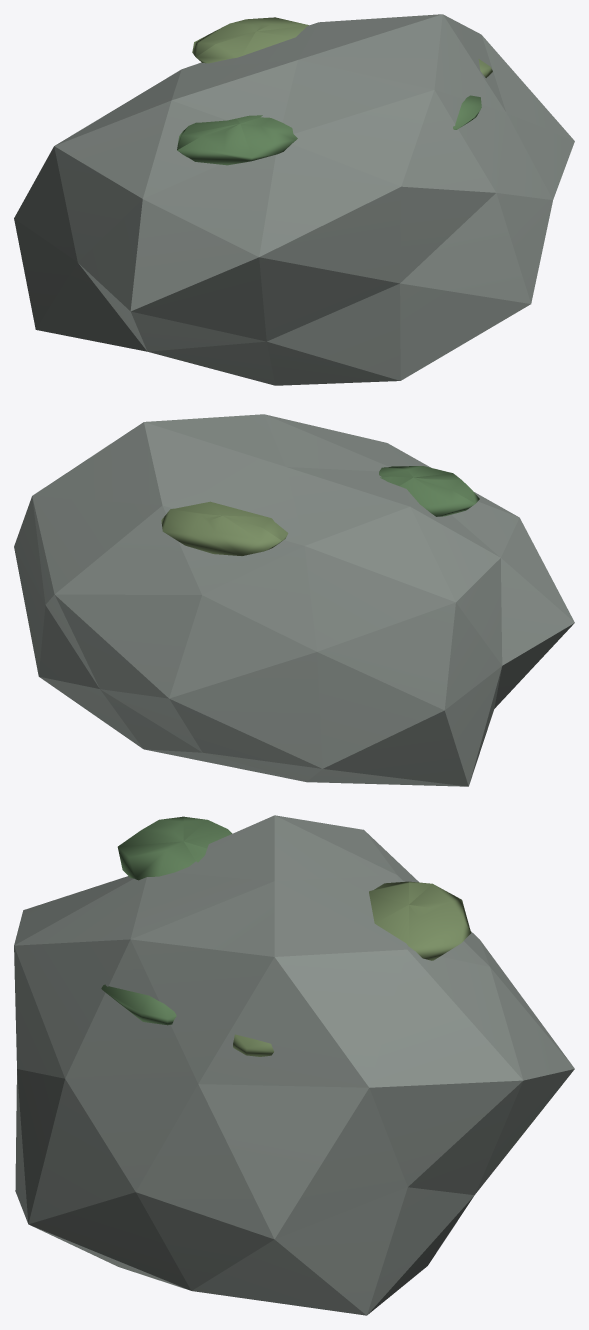
The model's file is roca_lod.glb.
3 renders of one model, top to bottom at view 1: azimuth 30°, elevation 25°; view 2: azimuth 150°, elevation 25°; view 3: azimuth 270°, elevation 25°, orthographic. The views are drawn at different scales.
Parts seen in each view (by area): view 1: roca; view 2: roca; view 3: roca.
Part boxes in pixels (x1,y1,x2,y2): roca: [14, 14, 574, 385]; roca: [14, 414, 574, 786]; roca: [14, 815, 574, 1315].
Size of the model in its own units: 0.8784 by 0.4533 by 0.6658.
